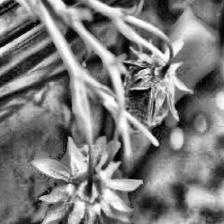Gray Mold: (118, 46, 178, 135)
